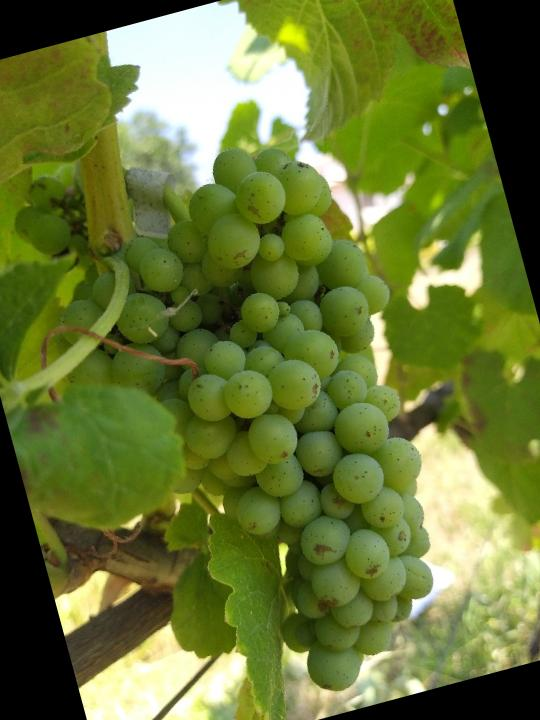grape: (22, 114, 493, 720)
